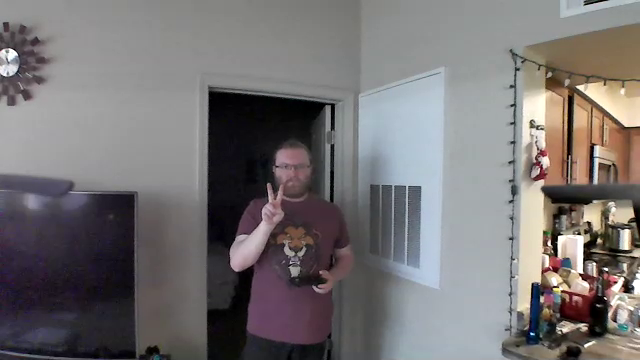peace: (253, 178, 297, 233)
